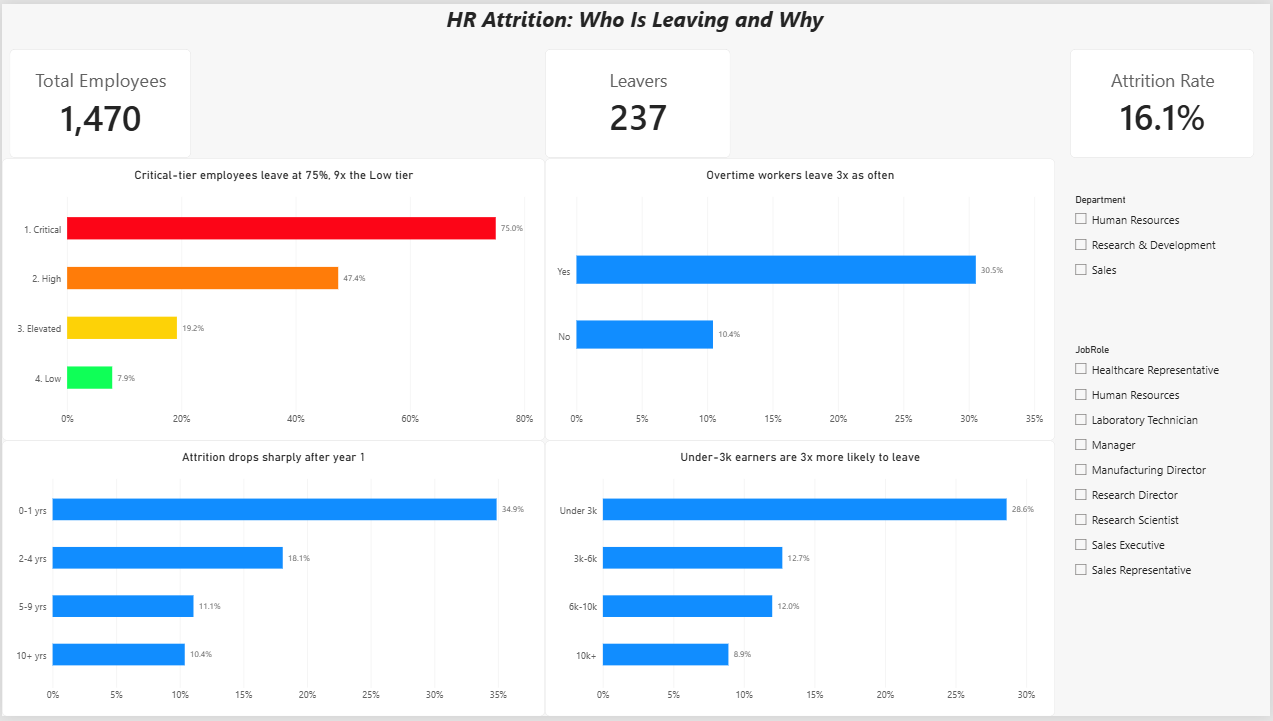

The dashboard page shown, as its layout file describes it:
{"tool":"powerbi","page":{"name":"Overview","canvas":[1920,1080],"ordinal":0},"visuals":[{"type":"cardVisual","fields":{"Data":["hr_analytics vw_employee_segments.Total Employees"]},"box":[11.4,68.2,275,165.9],"z":0},{"type":"cardVisual","fields":{"Data":["hr_analytics vw_employee_segments.Leavers"]},"box":[822.7,68.2,281.8,165.9],"z":1},{"type":"cardVisual","fields":{"Data":["hr_analytics vw_employee_segments.Attrition Rate"]},"box":[1618.2,68.2,279.5,165.9],"z":2},{"type":"barChart","title":"Critical-tier employees leave at 75%, 9x the Low tier","fields":{"Category":["hr_analytics vw_employee_segments.risk_tier"],"Y":["hr_analytics vw_employee_segments.Attrition Rate"]},"box":[0,234.1,822.7,427.3],"z":3},{"type":"barChart","title":"Overtime workers leave 3x as often","fields":{"Category":["hr_analytics vw_employee_segments.OverTime","hr_analytics vw_employee_segments.tenure_band","hr_analytics vw_employee_segments.income_band"],"Y":["hr_analytics vw_employee_segments.Attrition Rate"]},"box":[822.7,234.1,772.7,427.3],"z":4},{"type":"slicer","fields":{"Values":["hr_analytics vw_employee_segments.Department"]},"box":[1618.2,288.6,279.5,188.6],"z":7},{"type":"slicer","fields":{"Values":["hr_analytics vw_employee_segments.JobRole"]},"box":[1618.2,515.9,279.5,438.6],"z":8},{"type":"textbox","box":[600,0,718.2,68.2],"z":9},{"type":"barChart","title":"Attrition drops sharply after year 1","fields":{"Category":["hr_analytics vw_employee_segments.tenure_band"],"Y":["hr_analytics vw_employee_segments.Attrition Rate"]},"box":[0,661.4,822.7,418.2],"z":10},{"type":"barChart","title":"Under-3k earners are 3x more likely to leave","fields":{"Category":["hr_analytics vw_employee_segments.income_band"],"Y":["hr_analytics vw_employee_segments.Attrition Rate"]},"box":[822.7,661.4,772.7,418.2],"z":11}]}

Visuals, with their boxes in screenshot pixels (x1, y1, x2, y2), scaled from the page's 1920x1080 canvas onto the 1273x721 screenshot:
cardVisual - hr_analytics vw_employee_segments.Total Employees: x1=8, y1=46, x2=190, y2=156
cardVisual - hr_analytics vw_employee_segments.Leavers: x1=545, y1=46, x2=732, y2=156
cardVisual - hr_analytics vw_employee_segments.Attrition Rate: x1=1073, y1=46, x2=1258, y2=156
"Critical-tier employees leave at 75%, 9x the Low tier" barChart: x1=0, y1=156, x2=545, y2=442
"Overtime workers leave 3x as often" barChart: x1=545, y1=156, x2=1058, y2=442
slicer - hr_analytics vw_employee_segments.Department: x1=1073, y1=193, x2=1258, y2=319
slicer - hr_analytics vw_employee_segments.JobRole: x1=1073, y1=344, x2=1258, y2=637
textbox: x1=398, y1=0, x2=874, y2=46
"Attrition drops sharply after year 1" barChart: x1=0, y1=442, x2=545, y2=720
"Under-3k earners are 3x more likely to leave" barChart: x1=545, y1=442, x2=1058, y2=720
